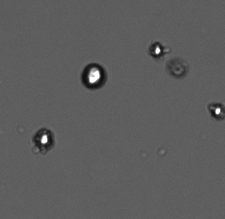Dead Cell: (168, 59, 189, 78)
Living Cell: (81, 63, 107, 90), (34, 128, 53, 151), (209, 102, 225, 121), (149, 42, 166, 58)
